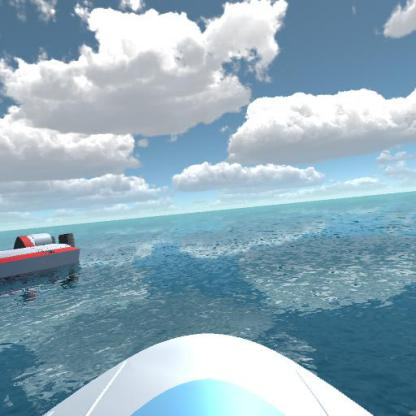usv3: (0, 225, 84, 284)
